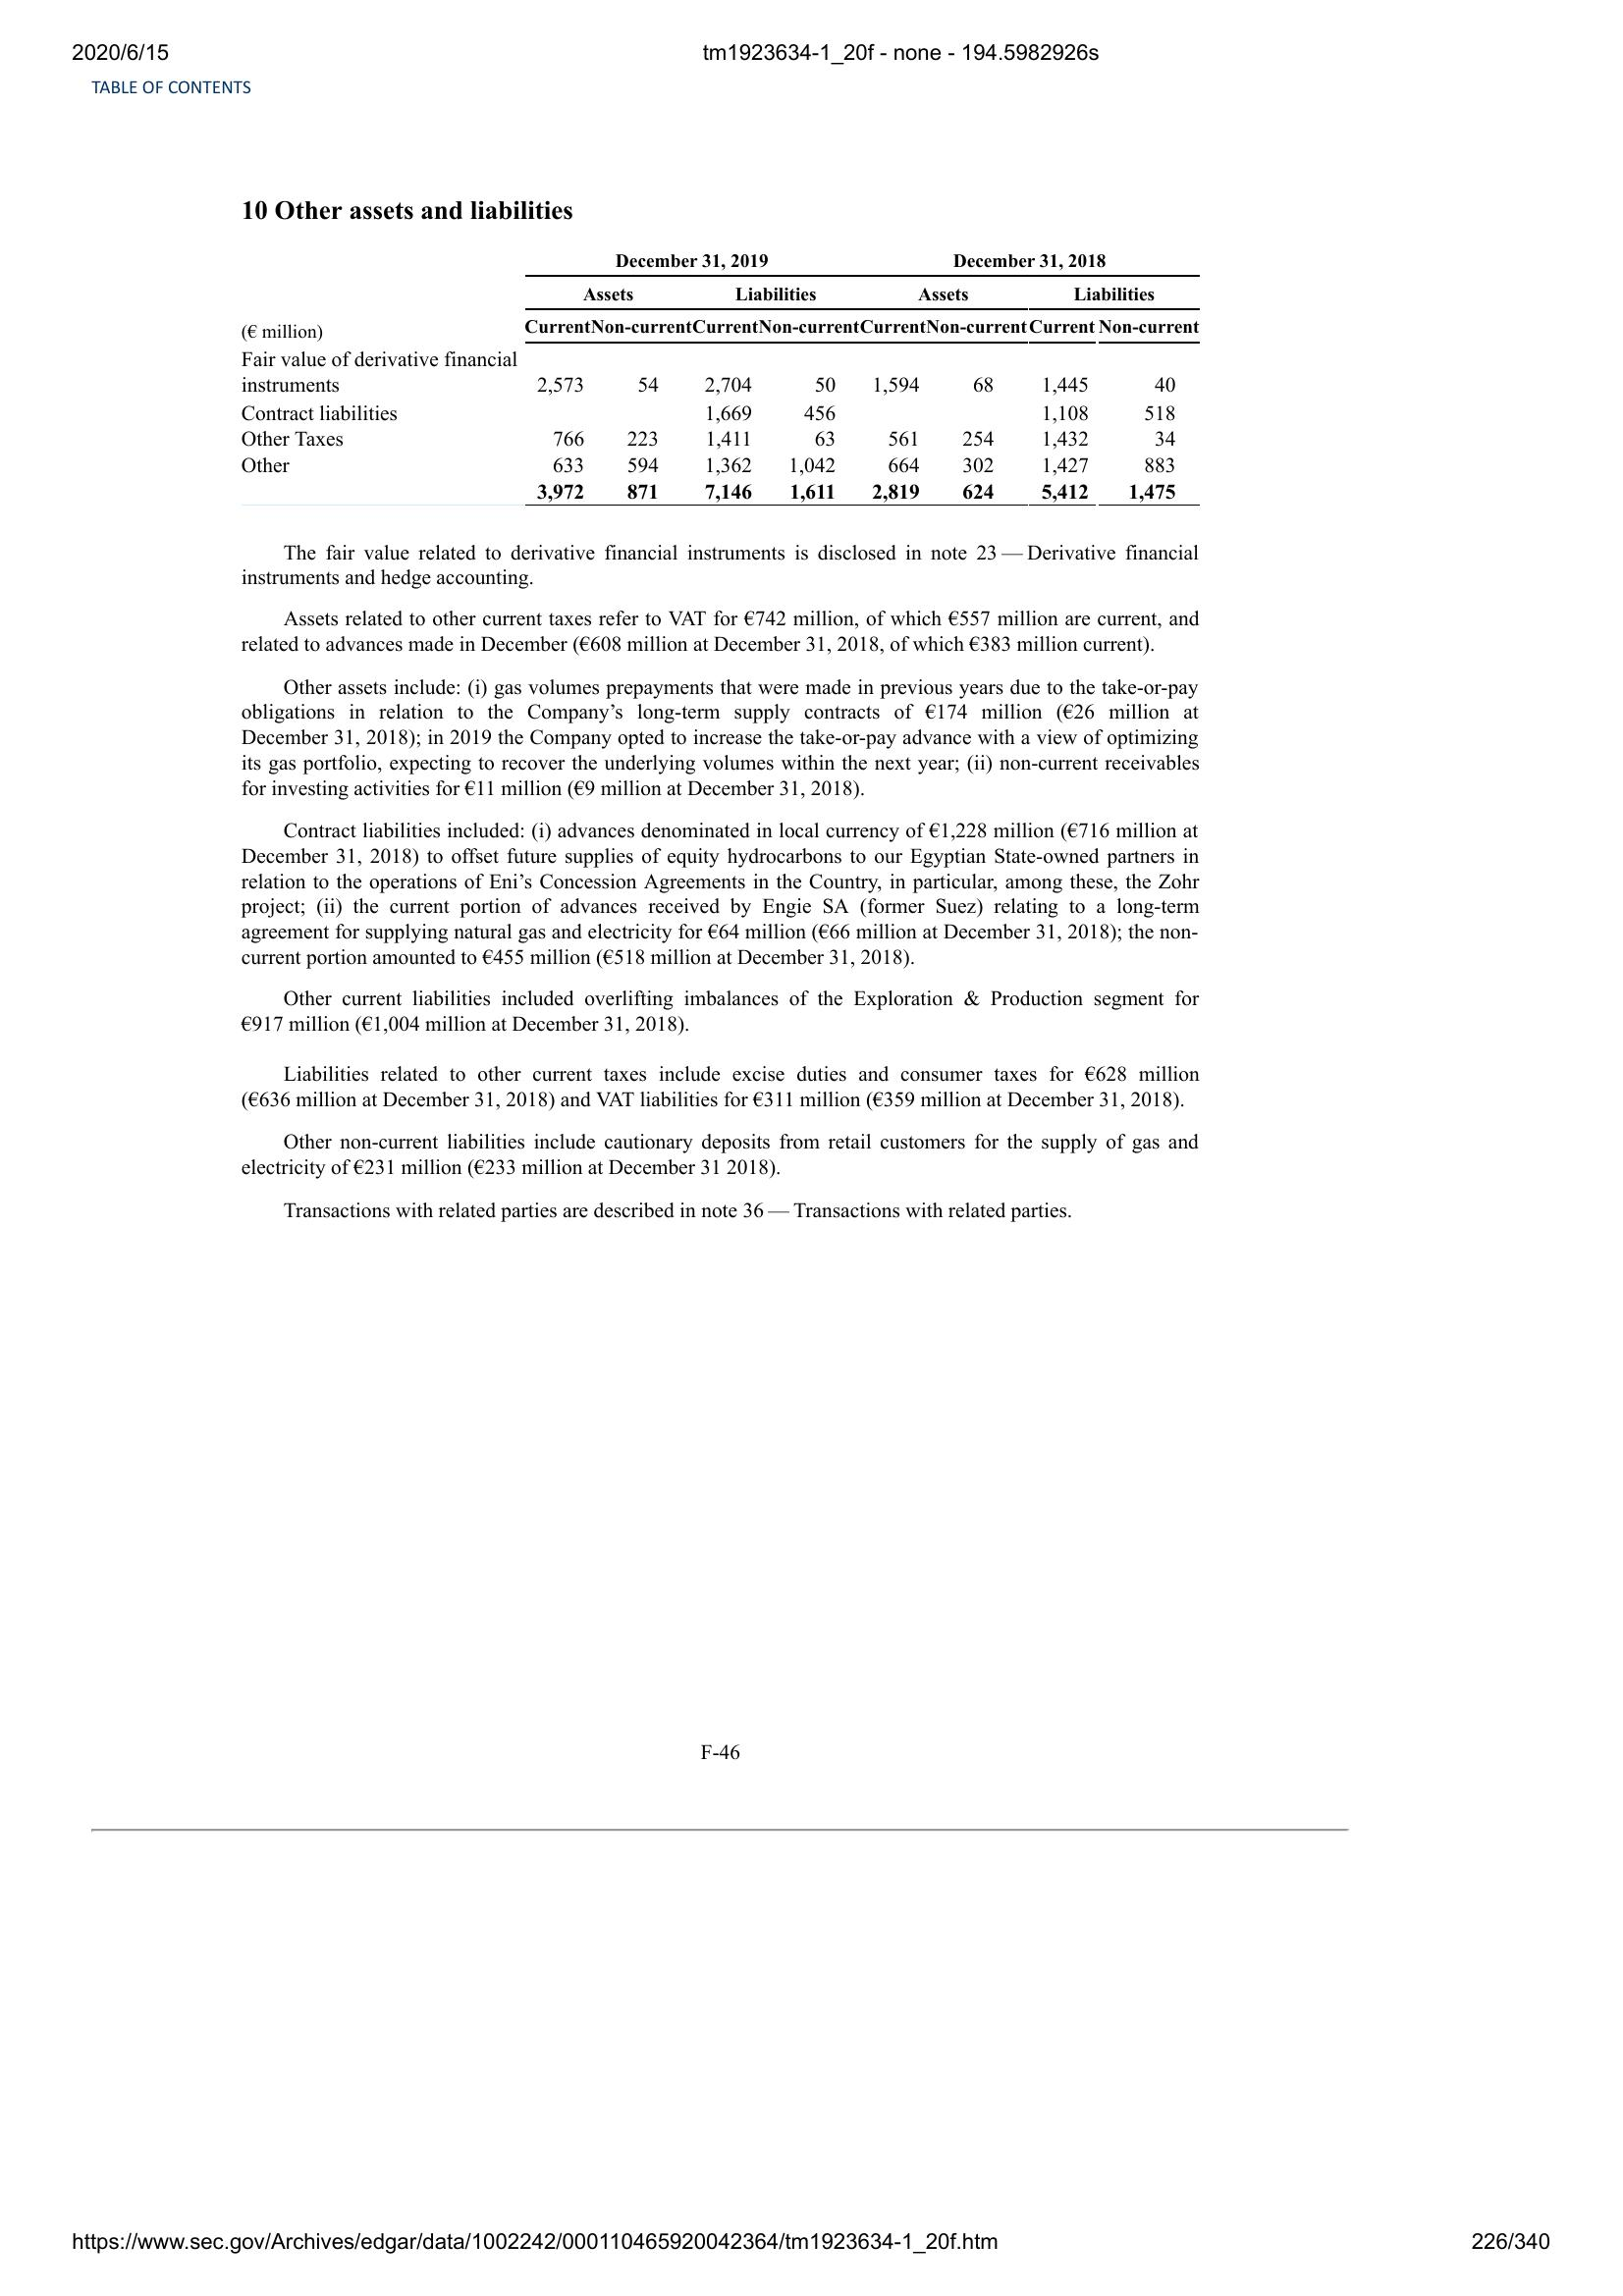table: (230, 249, 1208, 516)
